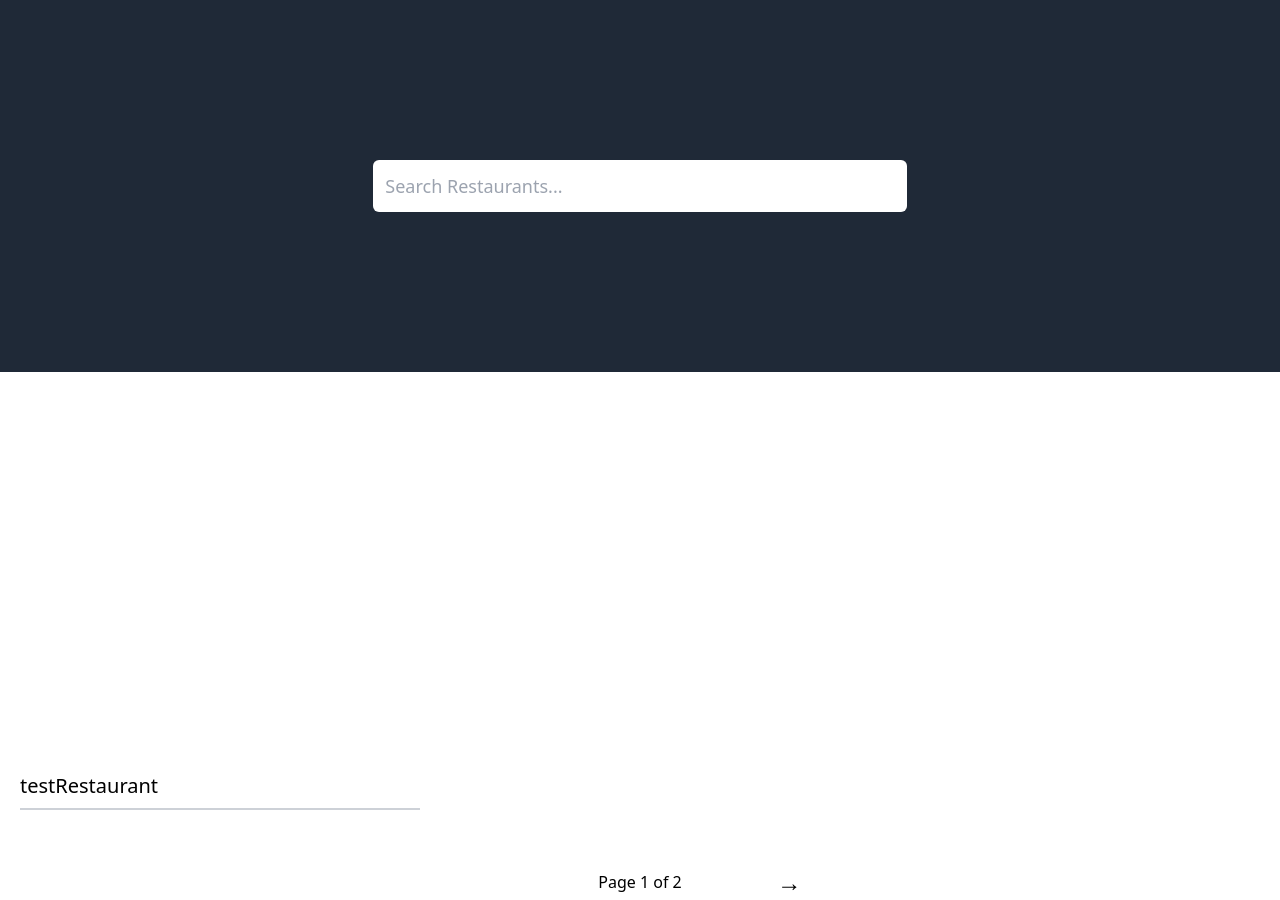
Test: <Restaurants /> › should render with pagination
The width and height of the screenshot is (1280, 900).
Check: the text "Page 1 of 2" is shown, box [598,871,682,893]
Click the button. click: (789, 882)
box: [715,866,864,898]
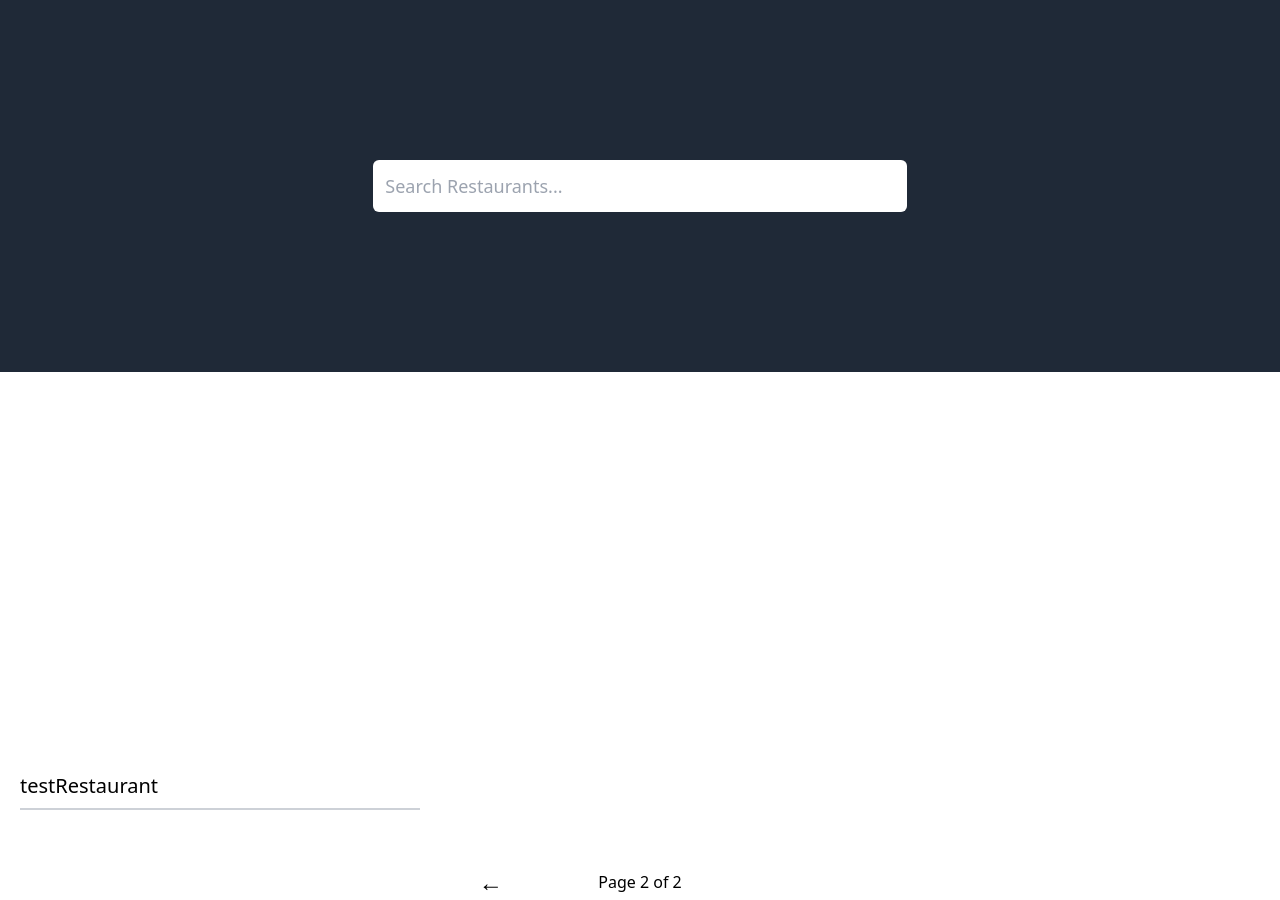
Check: the text "Page 2 of 2" is shown, box [598,871,682,893]
Click the button. click: (491, 882)
box: [416,866,565,898]
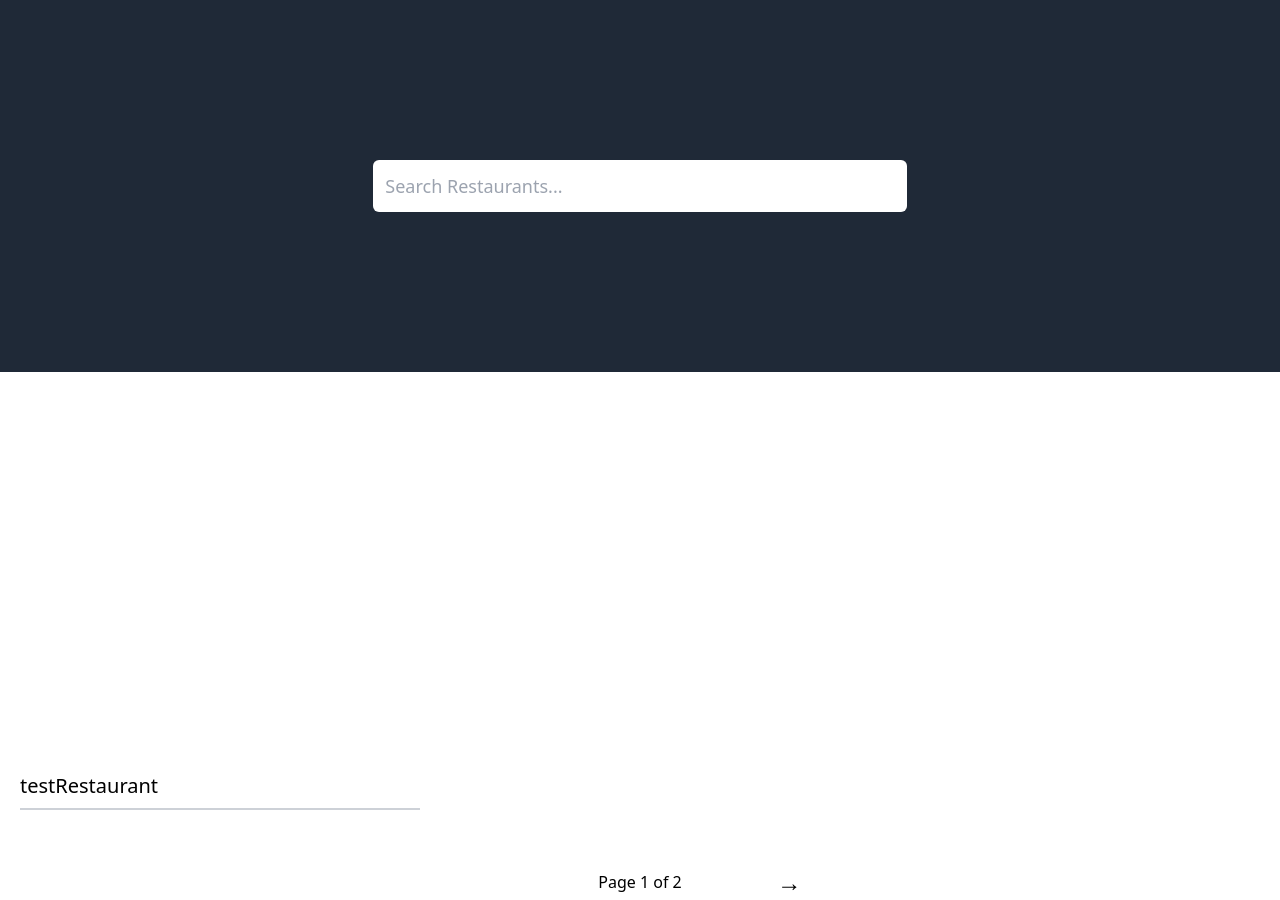
Check: the text "Page 1 of 2" is shown, box [598,871,682,893]
